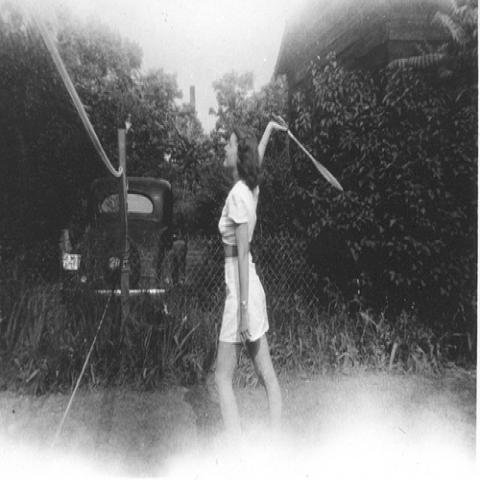car: (60, 177, 188, 304)
